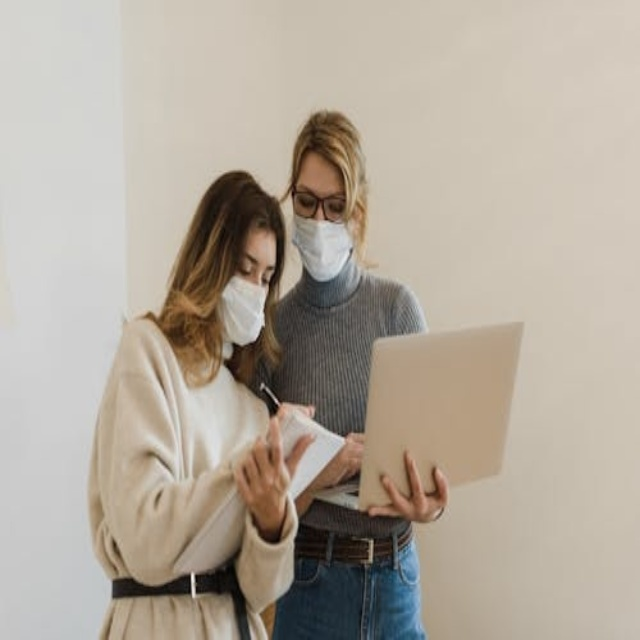Gafas: (293, 185, 349, 222)
Mascara: (291, 208, 355, 282), (215, 274, 268, 352)
Sin_gafas: (239, 249, 276, 287)
Sin_guantes: (230, 412, 323, 527), (369, 446, 452, 535)
